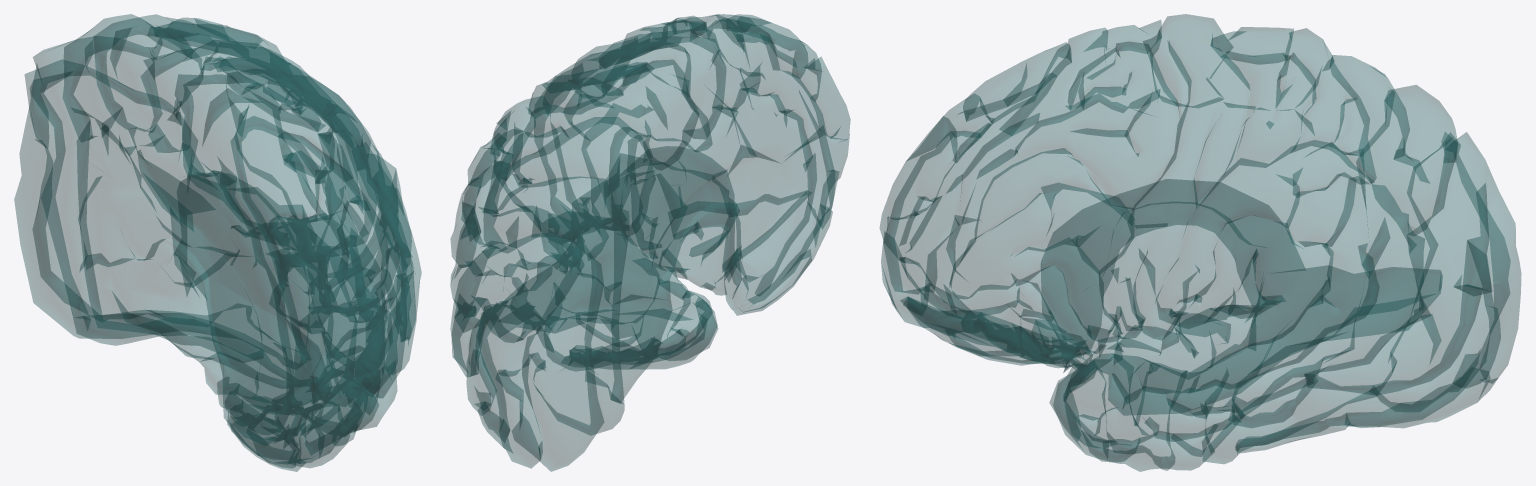
The model's file is Transperent Cerebrum.gltf.
3 views of the same model, side by side, from view 1: azimuth 30°, elevation 25°; view 2: azimuth 150°, elevation 25°; view 3: azimuth 270°, elevation 25° (orthographic). The views are drawn at different scales.
Parts seen in each view (by area): view 1: Carebrum; view 2: Carebrum; view 3: Carebrum.
Part boxes in pixels (x1=…): Carebrum: x1=14, y1=14, x2=421, y2=471; Carebrum: x1=450, y1=14, x2=850, y2=471; Carebrum: x1=879, y1=14, x2=1521, y2=471.
Bounding box in the file's own units: 6.6 × 11.32 × 16.76.
